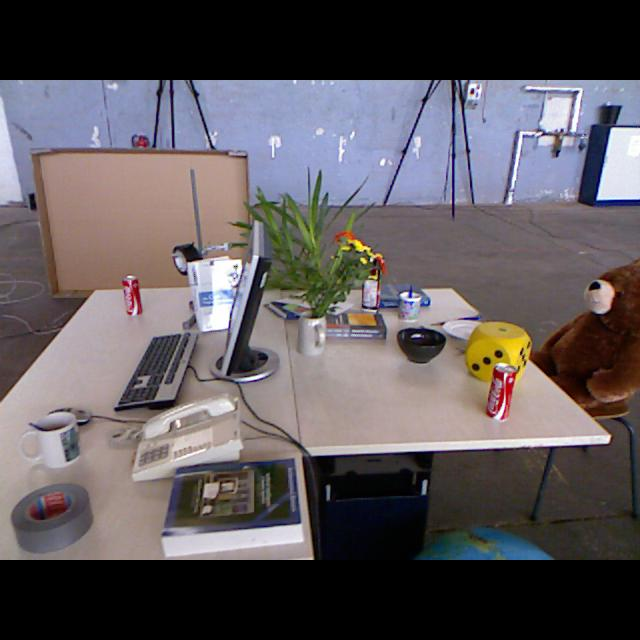Computer-Keyboard: (116, 328, 198, 410)
Flat-Panel-Monitor: (215, 254, 278, 382)
Telephone-Set: (132, 396, 244, 480)
